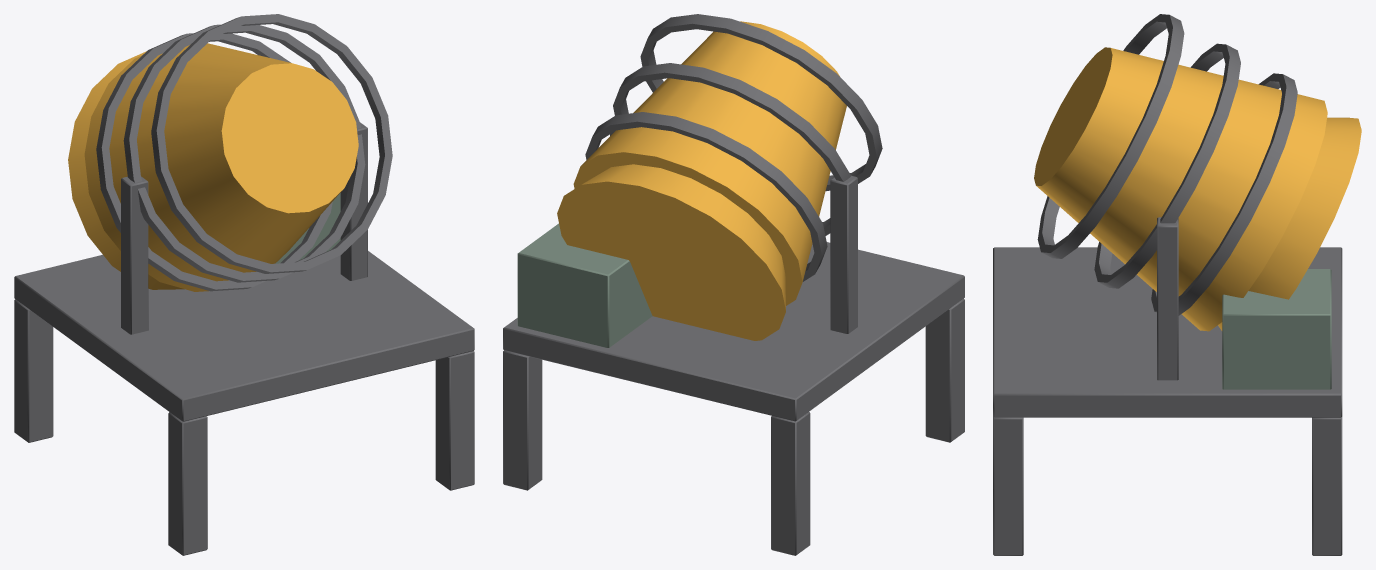
The model's file is feM_Mixer.fbx.
3 views of the same model, side by side, from view 1: azimuth 30°, elevation 25°; view 2: azimuth 150°, elevation 25°; view 3: azimuth 270°, elevation 25° (orthographic). The views are drawn at different scales.
Visible parts, largest first — view 1: feM_Mixer_Base, FeSpin_x0.5_Drum; view 2: FeSpin_x0.5_Drum, feM_Mixer_Base; view 3: FeSpin_x0.5_Drum, feM_Mixer_Base.
Part boxes in pixels (bbox=[...]): feM_Mixer_Base: bbox=[14, 122, 474, 555]; FeSpin_x0.5_Drum: bbox=[68, 14, 392, 291]; FeSpin_x0.5_Drum: bbox=[557, 14, 882, 340]; feM_Mixer_Base: bbox=[503, 131, 964, 555]; FeSpin_x0.5_Drum: bbox=[1034, 14, 1361, 331]; feM_Mixer_Base: bbox=[993, 217, 1342, 555].
Bounding box in the file's own units: 0.8 × 1.15 × 0.8444.
